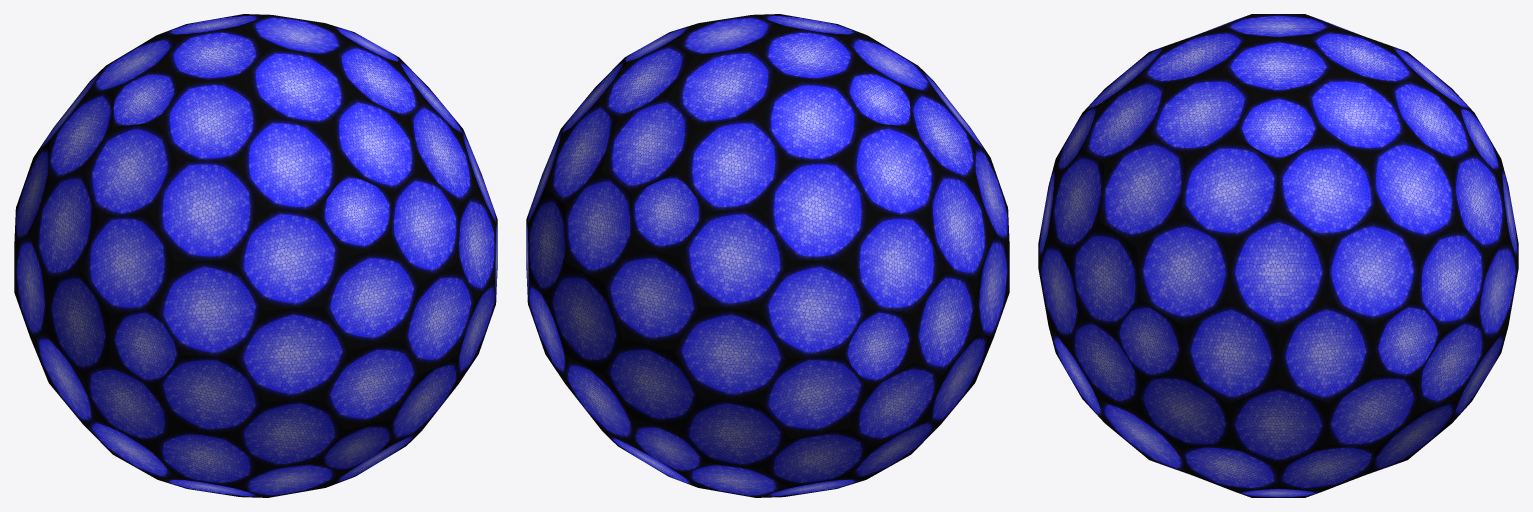
File: HexagonSphere.dae
3 renders of one model, left to right at view 1: azimuth 30°, elevation 25°; view 2: azimuth 150°, elevation 25°; view 3: azimuth 270°, elevation 25°, orthographic.
Visible parts, largest first — view 1: HexagonSphere; view 2: HexagonSphere; view 3: HexagonSphere.
Part boxes in pixels (bbox=[...]): HexagonSphere: bbox=[14, 14, 497, 497]; HexagonSphere: bbox=[526, 14, 1009, 497]; HexagonSphere: bbox=[1038, 14, 1518, 497].
Bounding box in the file's own units: 2 × 2 × 2.
